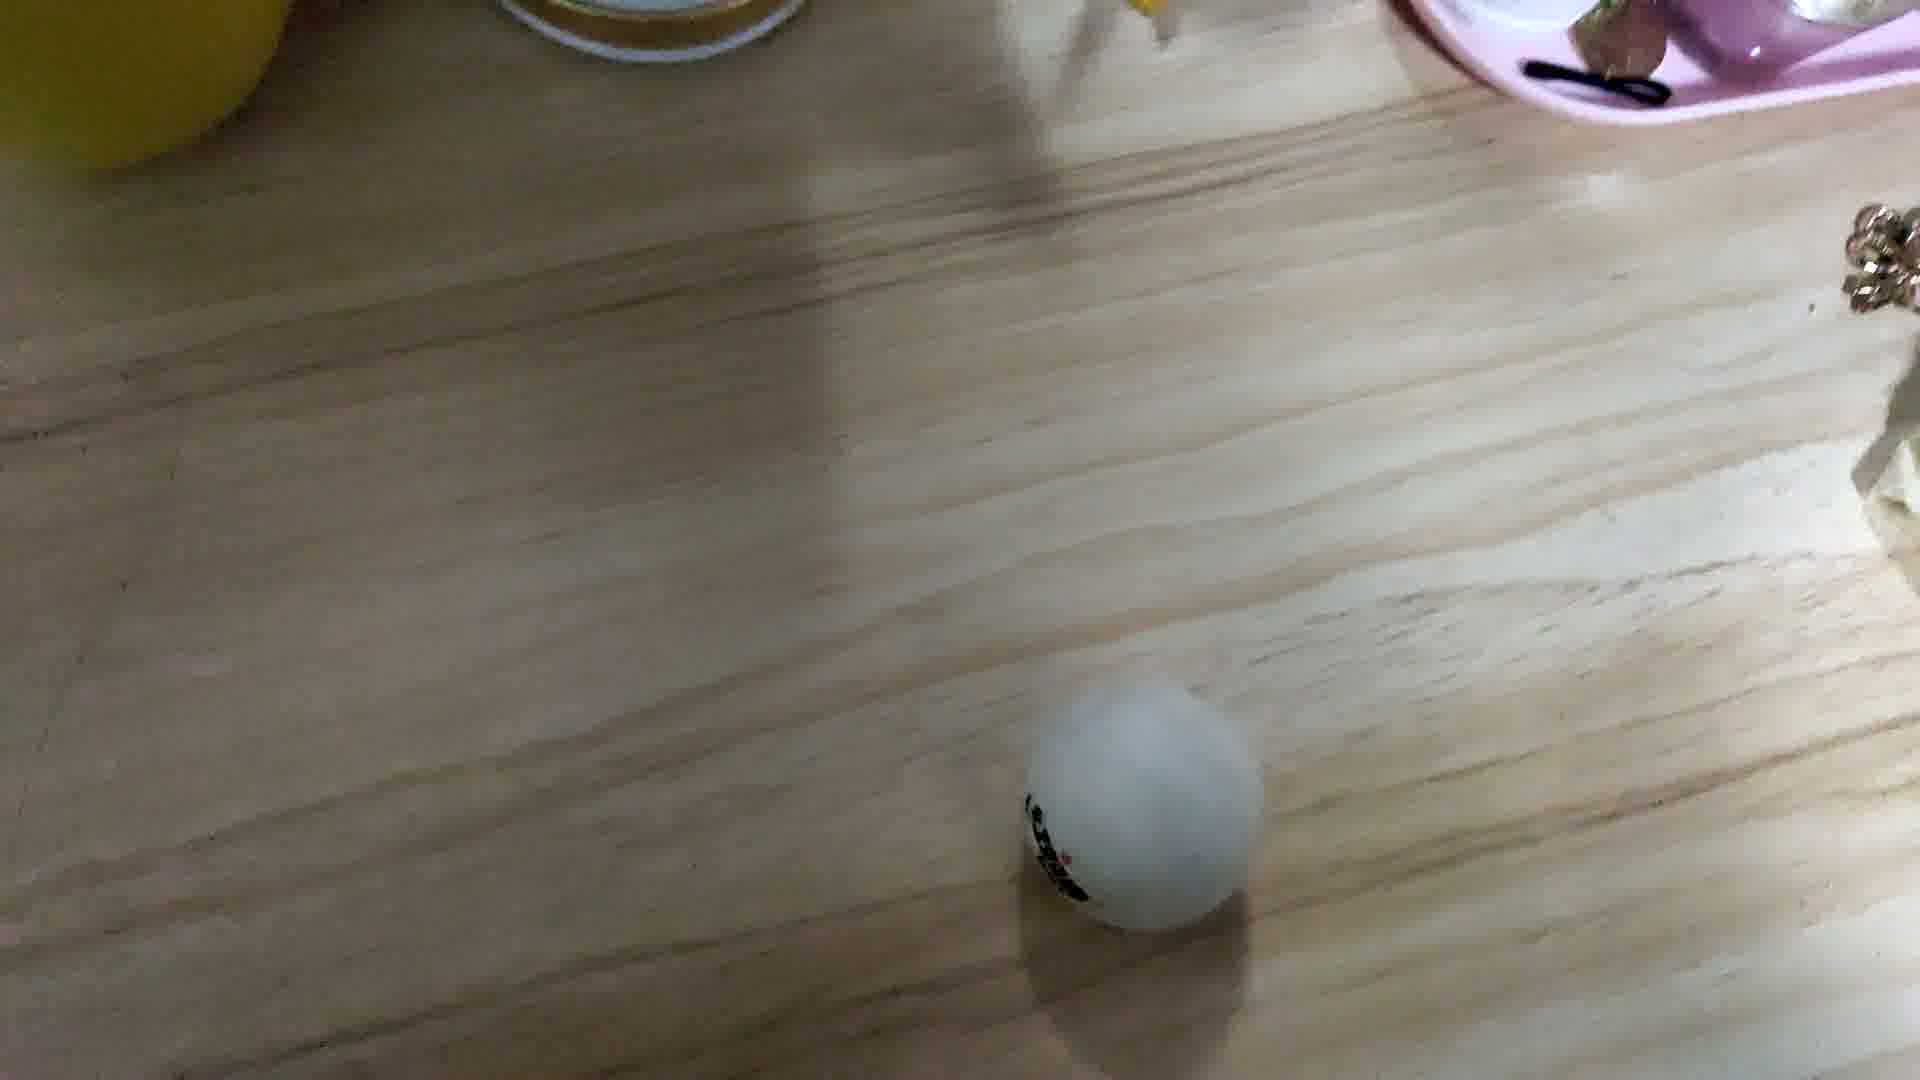Ball: (1025, 679, 1267, 935)
